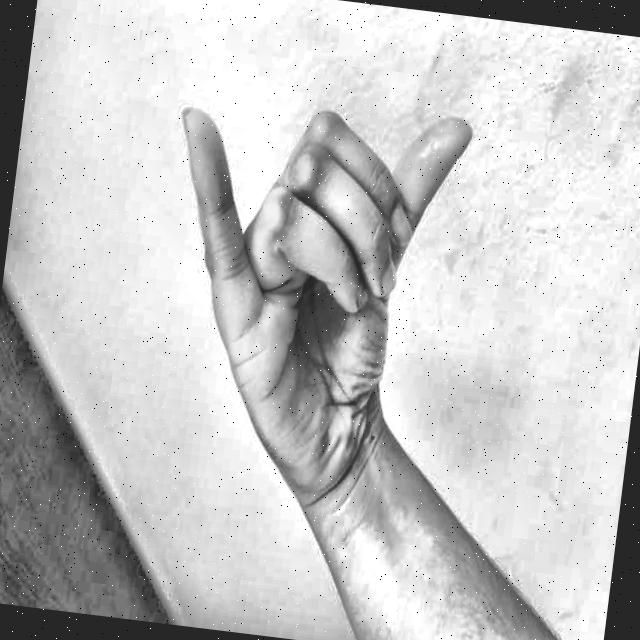Oi: (112, 42, 502, 550)
